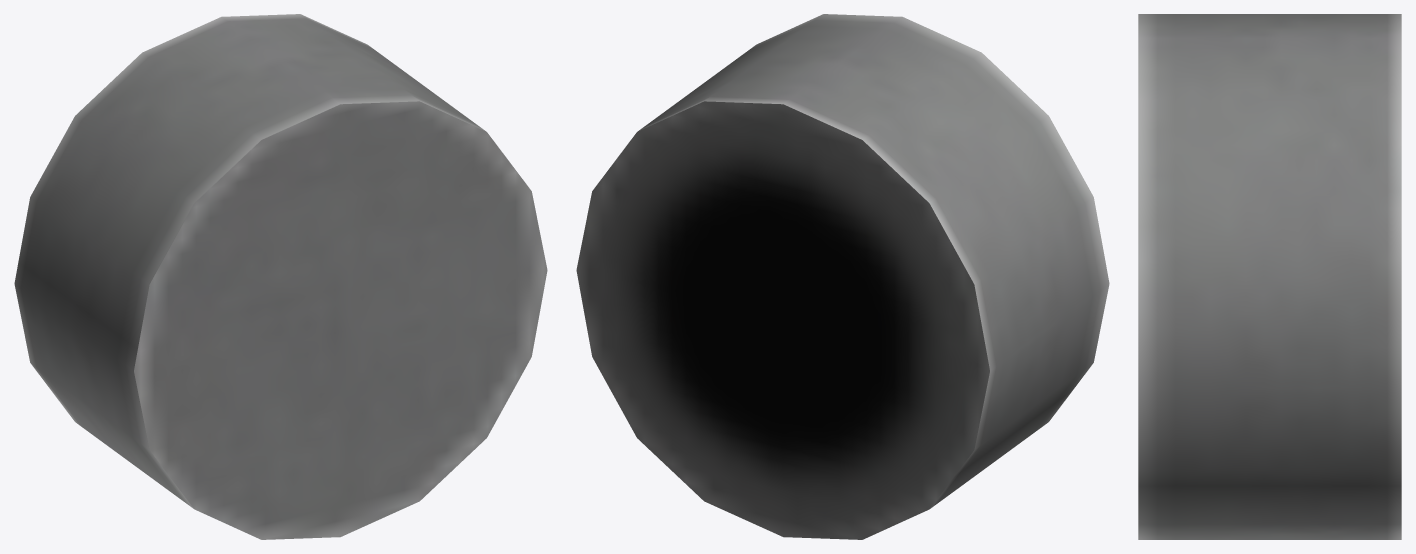
File: grus_solar_base.obj
3 renders of one model, left to right at view 1: azimuth 30°, elevation 25°; view 2: azimuth 150°, elevation 25°; view 3: azimuth 270°, elevation 25°, orthographic. The views are drawn at different scales.
Parts seen in each view (by area): view 1: 1; view 2: 1; view 3: 1.
Boxes of the visible parts, x1,y1,x2,y2 form: 1: [14, 14, 547, 539]; 1: [576, 14, 1109, 539]; 1: [1138, 14, 1401, 539].
Size of the model in its own units: 0.15 by 0.15 by 0.075.
1 material, 1 textured.
